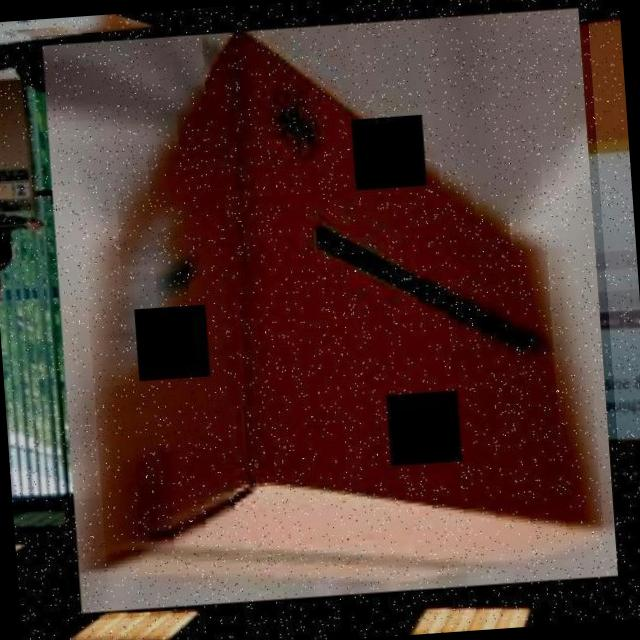box: (31, 0, 628, 621)
